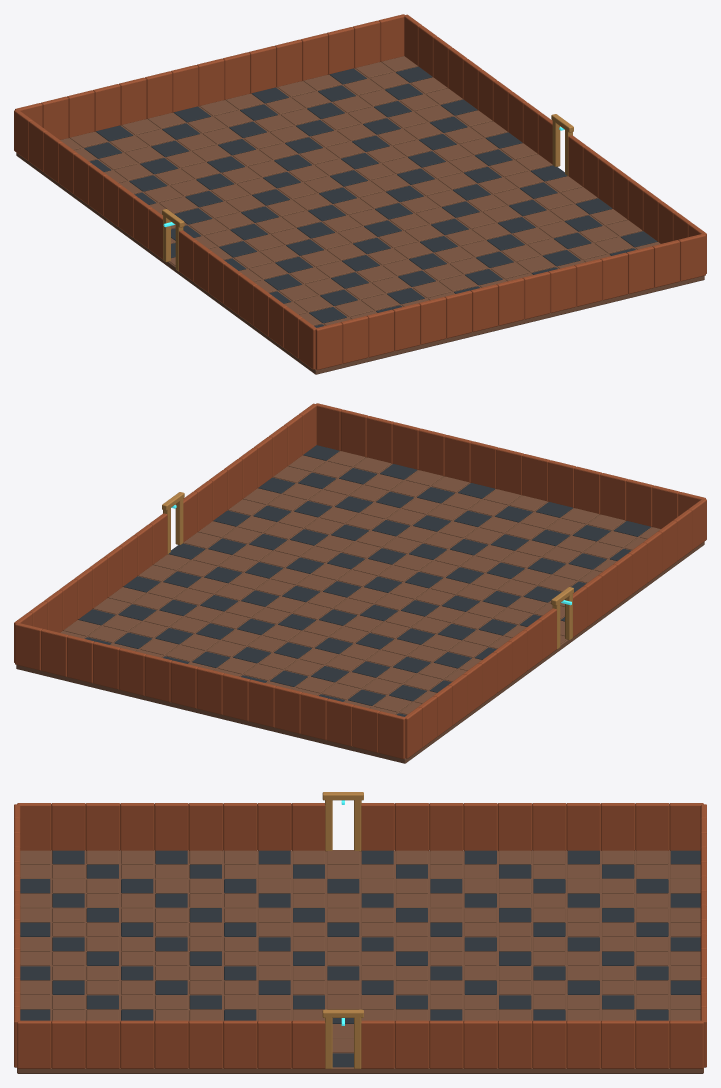
The model's file is cinder-arrival-yard.glb.
3 views of the same model, one above another, from view 1: azimuth 30°, elevation 25°; view 2: azimuth 150°, elevation 25°; view 3: azimuth 270°, elevation 25° (orthographic). The views are drawn at different scales.
Parts seen in each view (by area): view 1: Floor slab, South wall 0, South wall 6, South wall 9, South wall 1, South wall 3, South wall 4, South wall 5, South wall 7, South wall 8, South wall 10, South wall 2 (+54 smaller); view 2: Floor slab, North wall 0, North wall 6, North wall 9, North wall 1, North wall 3, North wall 4, North wall 5, North wall 7, North wall 8, North wall 10, North wall 2 (+54 smaller); view 3: Floor slab, East wall 1, East wall 4, East wall 7, East wall 12, East wall 15, East wall 18, East wall 0, East wall 2, East wall 3, East wall 5, East wall 6 (+247 smaller).
Boxes of the visible parts, x1=… form: Floor slab: x1=16, y1=62, x2=704, y2=374; South wall 0: x1=315, y1=322, x2=342, y2=370; South wall 6: x1=470, y1=284, x2=498, y2=332; South wall 9: x1=548, y1=265, x2=576, y2=313; South wall 1: x1=341, y1=316, x2=368, y2=363; South wall 3: x1=393, y1=303, x2=420, y2=351; South wall 4: x1=419, y1=297, x2=446, y2=344; South wall 5: x1=445, y1=290, x2=472, y2=338; South wall 7: x1=496, y1=278, x2=524, y2=325; South wall 8: x1=522, y1=271, x2=550, y2=319; South wall 10: x1=574, y1=259, x2=602, y2=306; South wall 2: x1=367, y1=309, x2=394, y2=357; Floor slab: x1=16, y1=451, x2=704, y2=763; North wall 0: x1=378, y1=711, x2=405, y2=759; North wall 6: x1=222, y1=673, x2=250, y2=721; North wall 9: x1=144, y1=654, x2=172, y2=702; North wall 1: x1=352, y1=705, x2=379, y2=752; North wall 3: x1=300, y1=692, x2=327, y2=740; North wall 4: x1=274, y1=686, x2=301, y2=733; North wall 5: x1=248, y1=679, x2=275, y2=727; North wall 7: x1=196, y1=667, x2=224, y2=714; North wall 8: x1=170, y1=660, x2=198, y2=708; North wall 10: x1=118, y1=648, x2=146, y2=695; North wall 2: x1=326, y1=698, x2=353, y2=746; Floor slab: x1=17, y1=850, x2=703, y2=1073; East wall 1: x1=635, y1=1020, x2=669, y2=1068; East wall 4: x1=532, y1=1020, x2=566, y2=1068; East wall 7: x1=429, y1=1020, x2=463, y2=1068; East wall 12: x1=257, y1=1020, x2=291, y2=1068; East wall 15: x1=154, y1=1020, x2=188, y2=1068; East wall 18: x1=51, y1=1020, x2=85, y2=1068; East wall 0: x1=669, y1=1020, x2=703, y2=1068; East wall 2: x1=601, y1=1020, x2=635, y2=1068; East wall 3: x1=566, y1=1020, x2=600, y2=1068; East wall 5: x1=498, y1=1020, x2=532, y2=1068; East wall 6: x1=463, y1=1020, x2=497, y2=1068.
Size of the model in its own units: 15.69 by 2.04 by 20.18.
